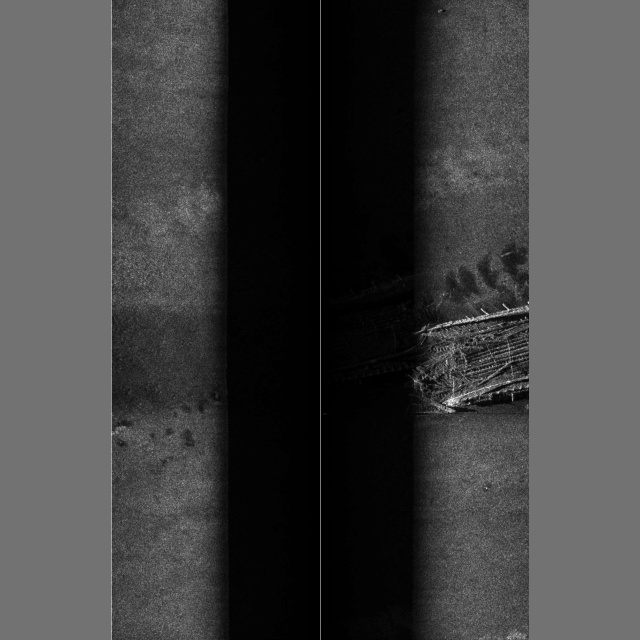Shipwreck: (404, 252, 529, 417)
